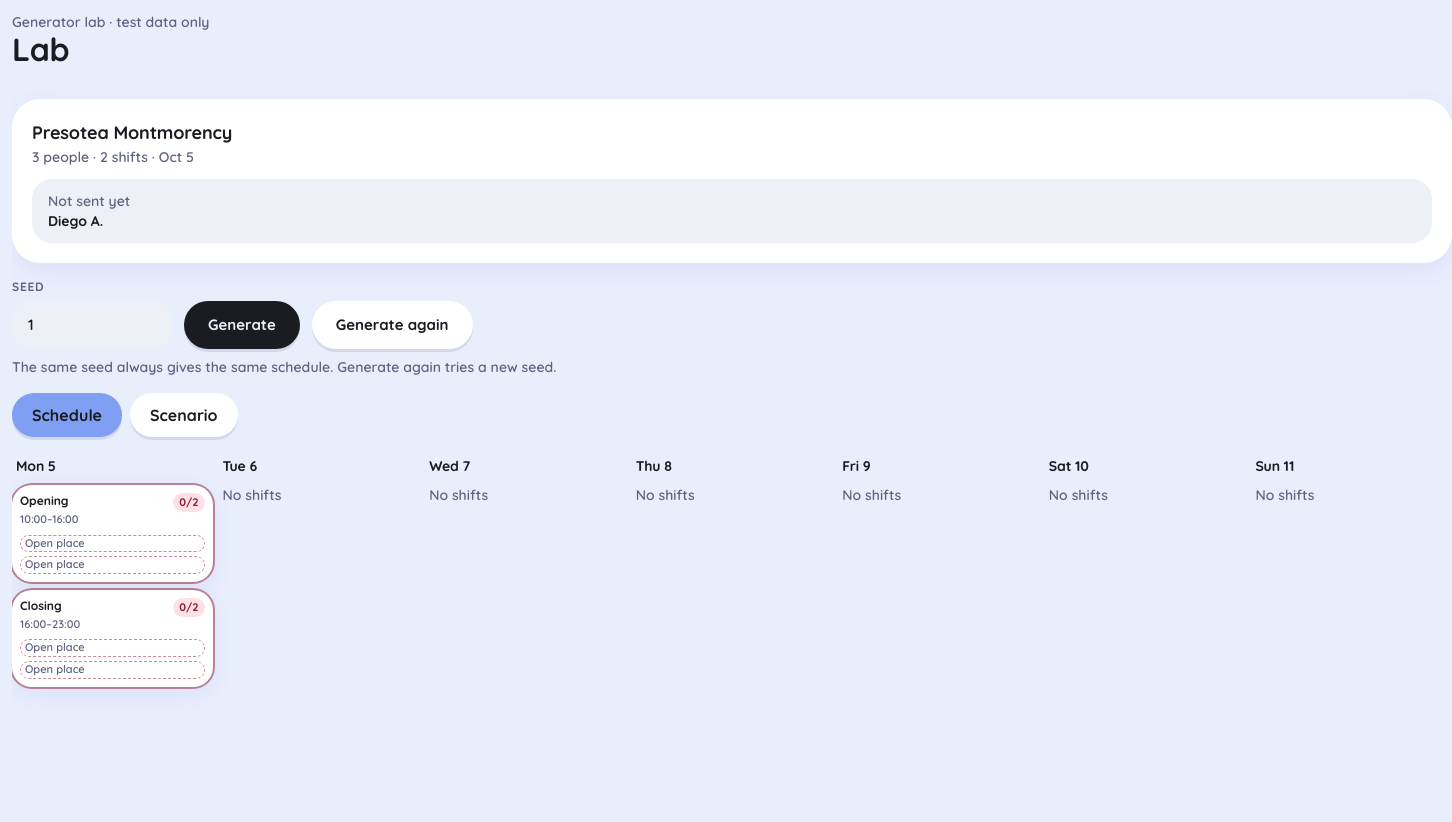
Test case: LabPage › explains a refused generation with a translated message
Click the button "Generate": [242, 325] box [184,301,300,349]
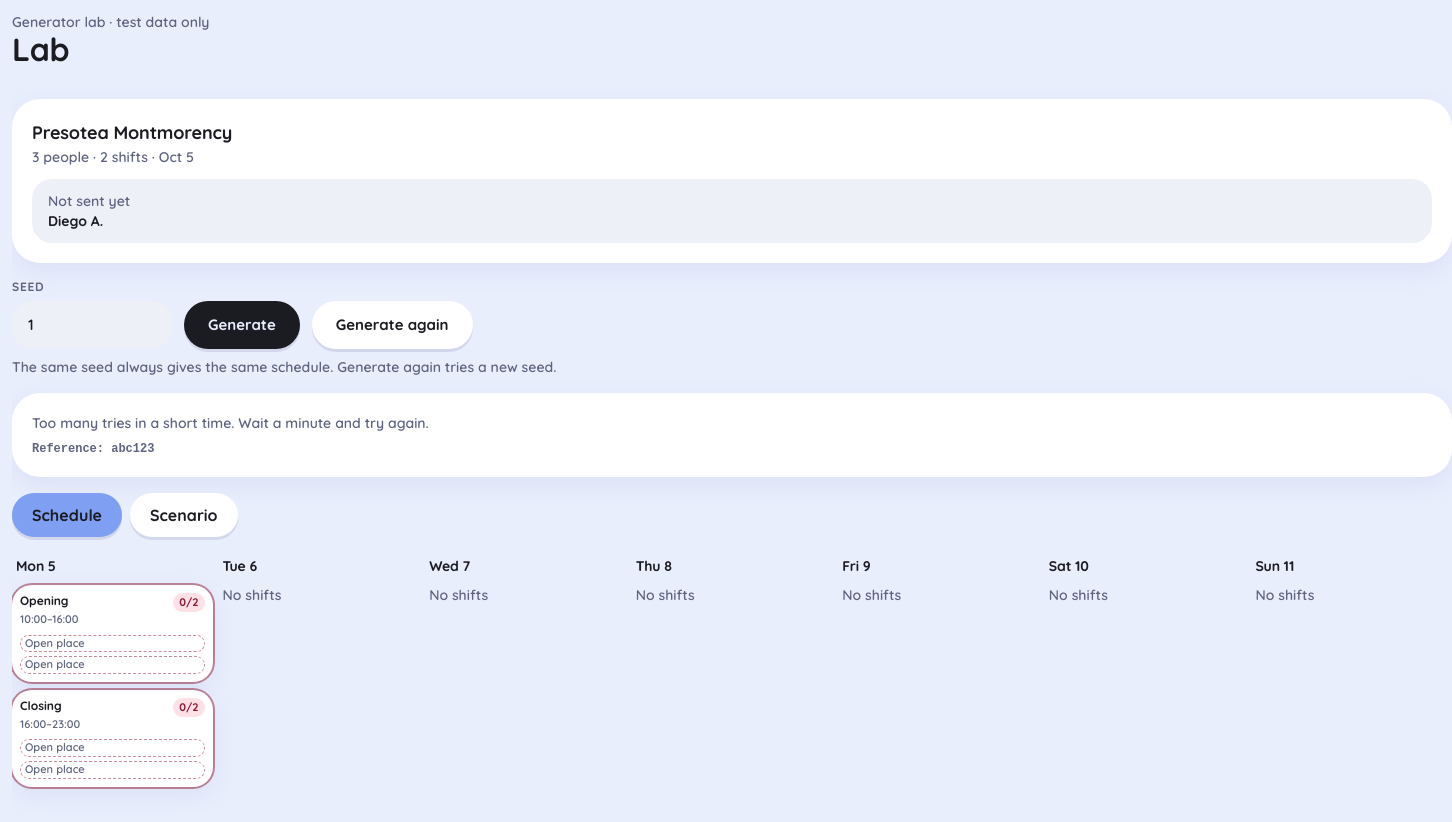
Expected: the message shows "Too many tries in a short time. Wait a minute and try again.", [32,414,429,432]
Expected: the message shows "abc123", [32,442,154,456]
